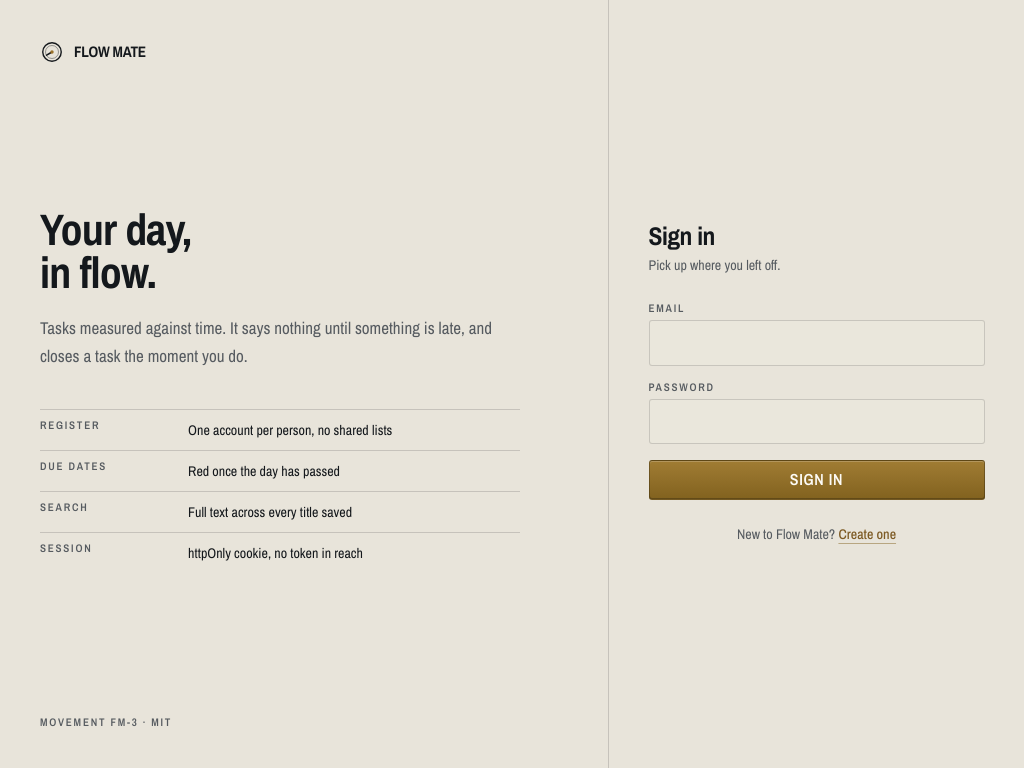
it: AuthPage: login › maps server field errors onto the inputs
The image size is (1024, 768).
Type "valid@example.com" into the field labelled "Email" at (816, 343), box [648, 320, 984, 366]
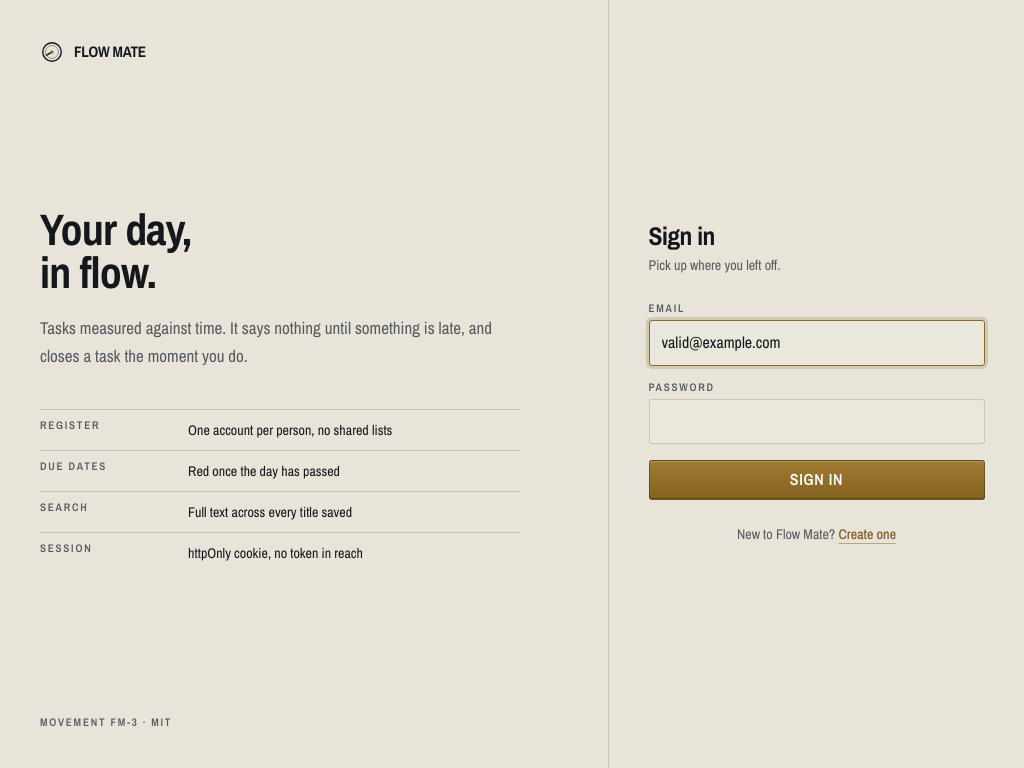
Type "whatever123" into the password field labelled "Password" at (816, 421), box [648, 398, 984, 444]
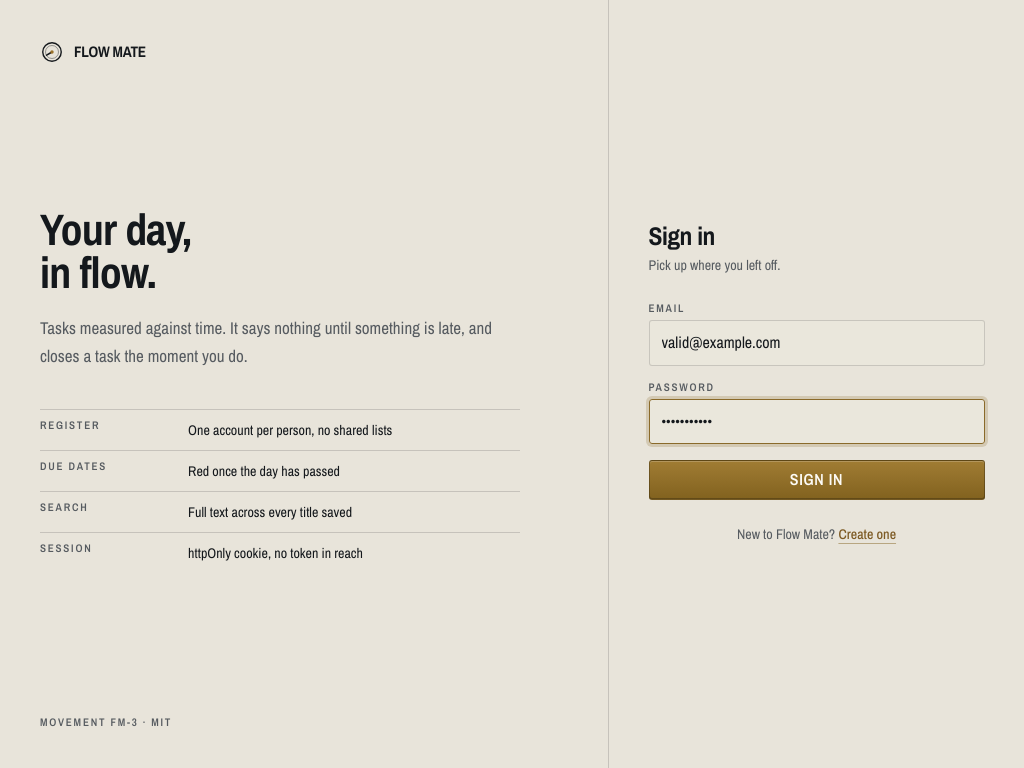
Click the button "Sign in" at (816, 480), box [648, 460, 984, 500]
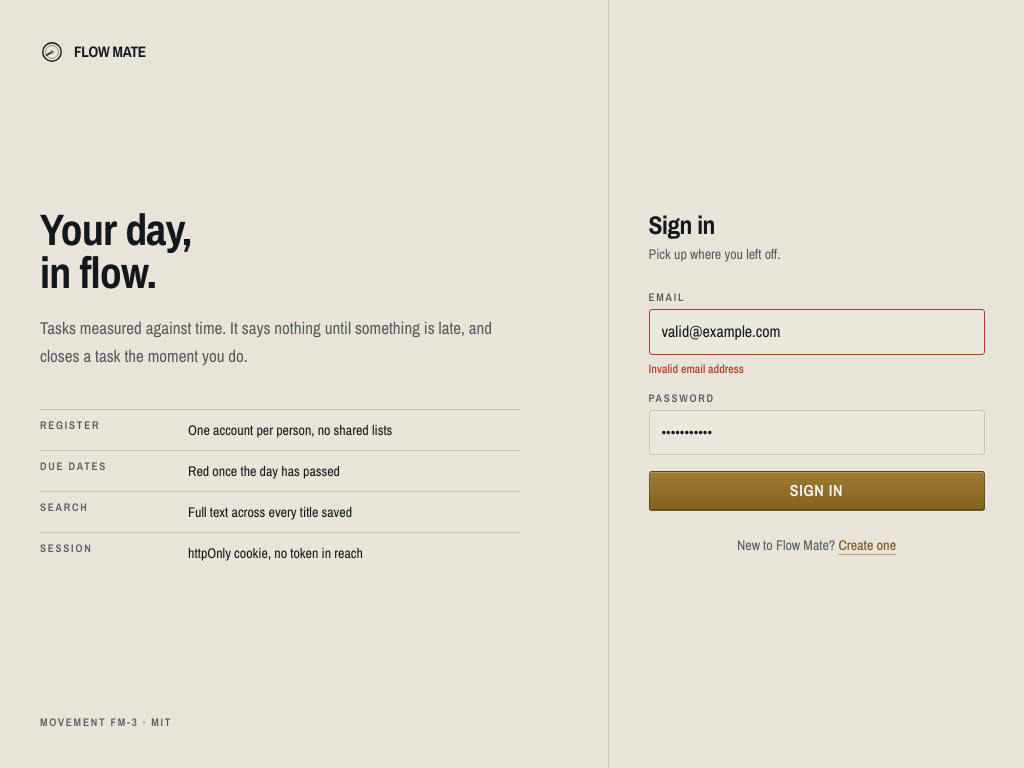
Result: the text "Invalid email address" is shown at [648, 360, 744, 376]
